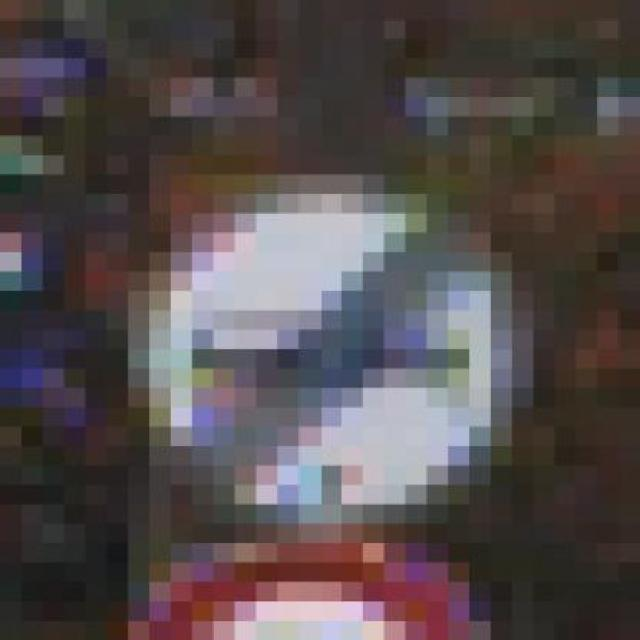No_Over_Taking: (128, 116, 555, 524)
